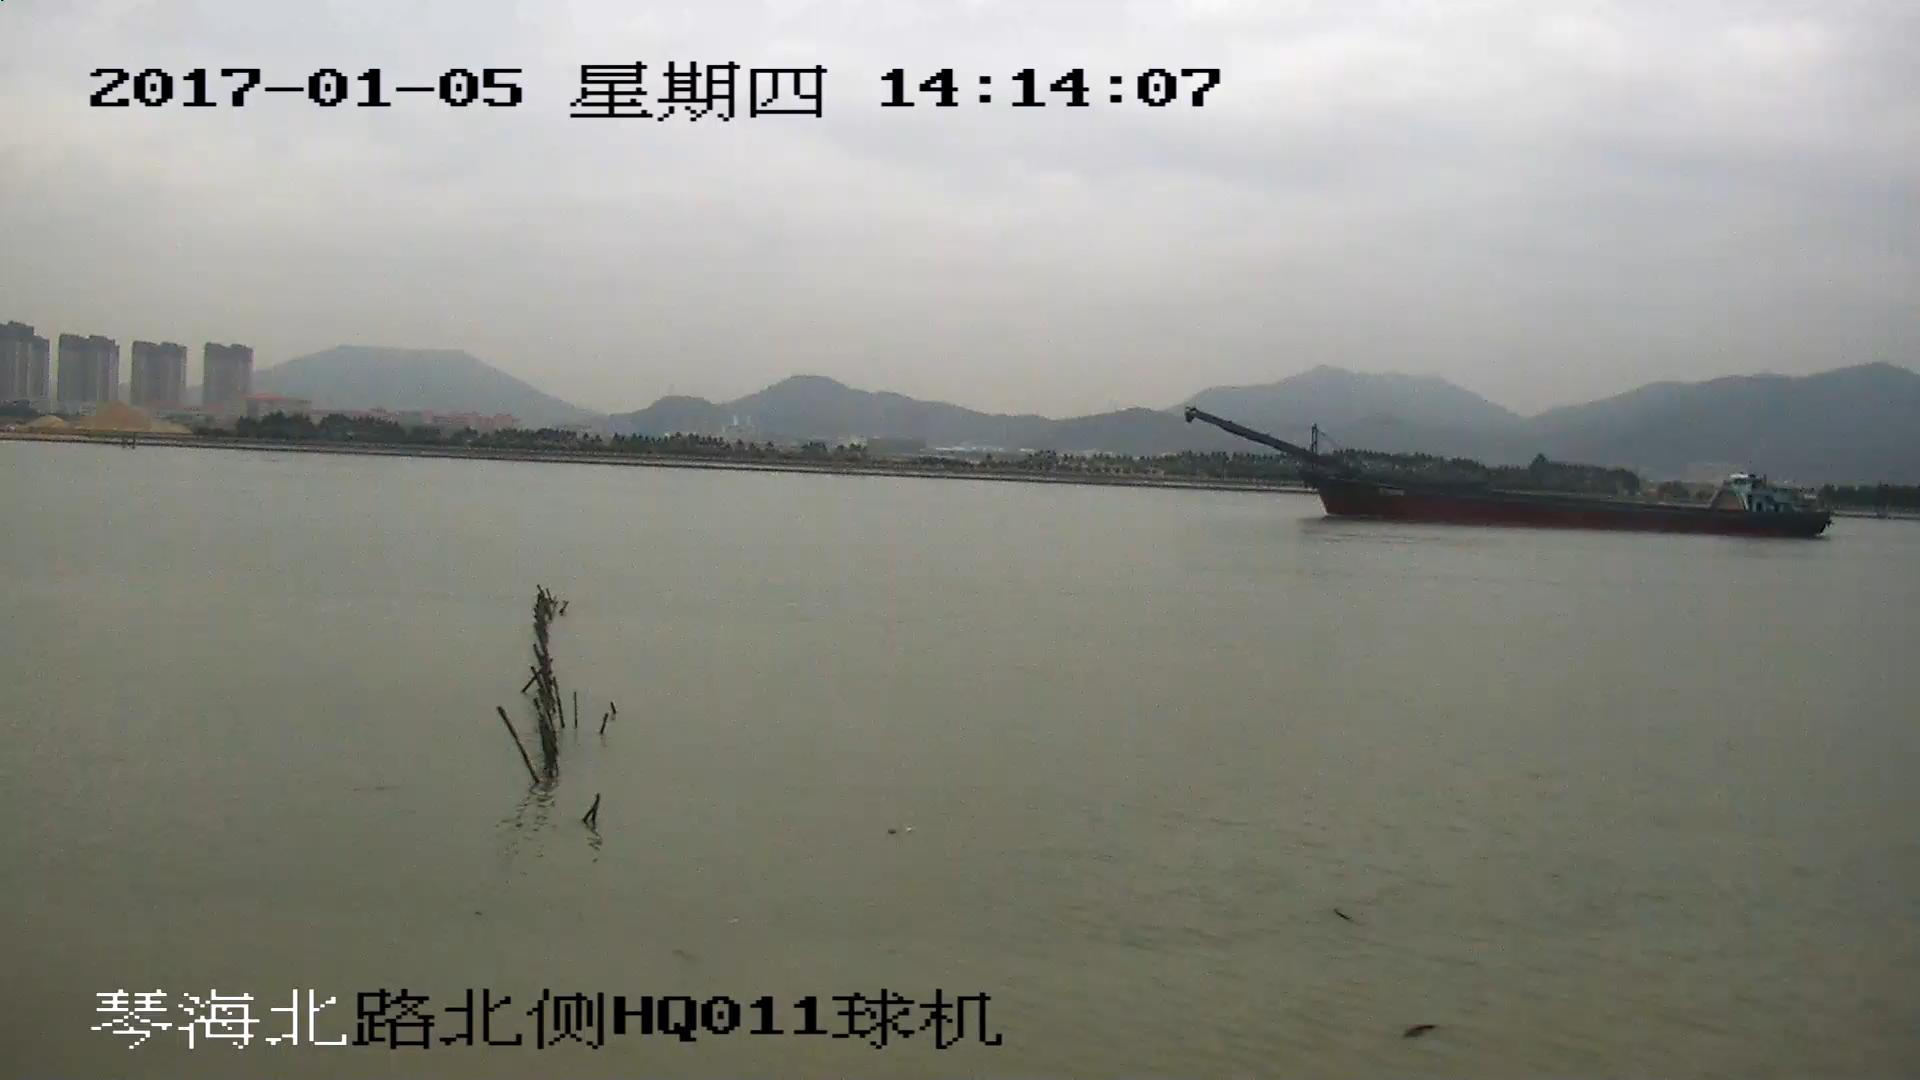bulk cargo carrier: (1188, 413, 1831, 539)
